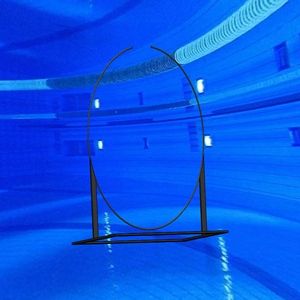circle: (70, 44, 231, 246)
